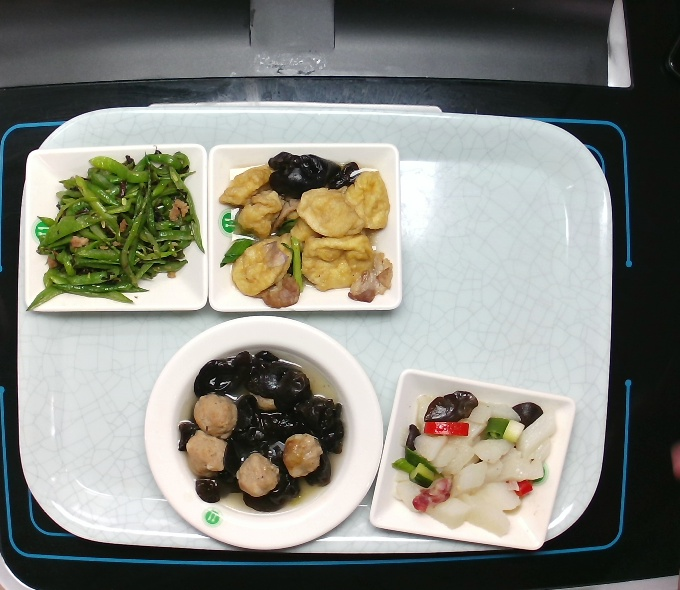wcq-MuErWanZi: (176, 342, 348, 509)
wcq-ShanYao: (386, 369, 570, 532)
wcq-SiJiDouChaoRou: (35, 152, 204, 305)
wcq-YouPaoRouPian: (219, 150, 392, 311)
